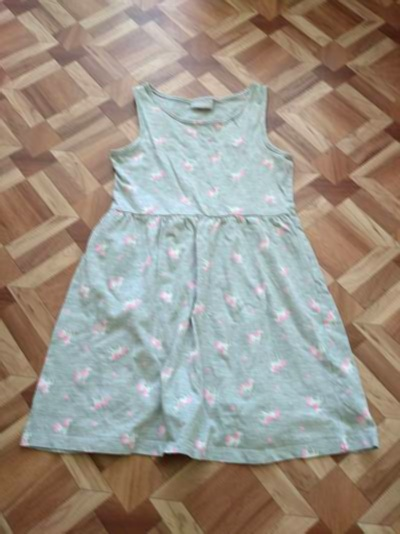Dress: (7, 44, 387, 480)
